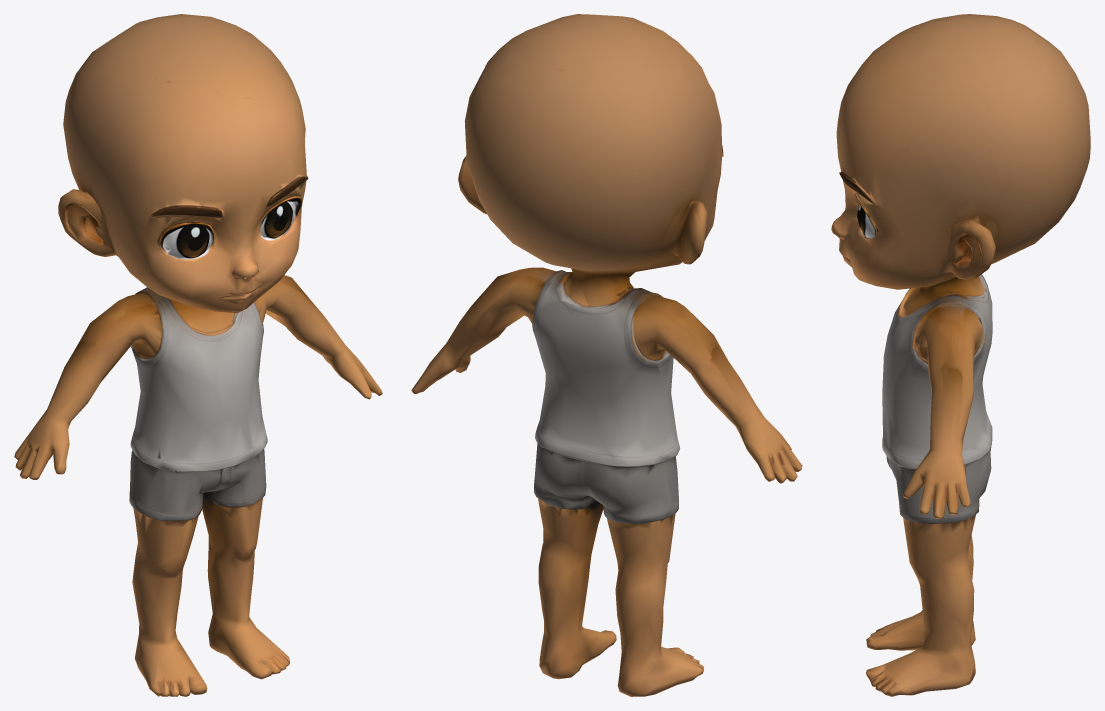
The model's file is base_male.glb.
3 views of the same model, side by side, from view 1: azimuth 30°, elevation 25°; view 2: azimuth 150°, elevation 25°; view 3: azimuth 270°, elevation 25° (orthographic). The views are drawn at different scales.
Visible parts, largest first — view 1: base_male; view 2: base_male; view 3: base_male.
Part boxes in pixels (x1,y1,x2,y2): base_male: (14,14,382,696); base_male: (411,14,802,696); base_male: (831,14,1090,696).
Size of the model in its own units: 0.6891 by 1.15 by 0.4253.
Materials: 1 (1 with a texture image).
